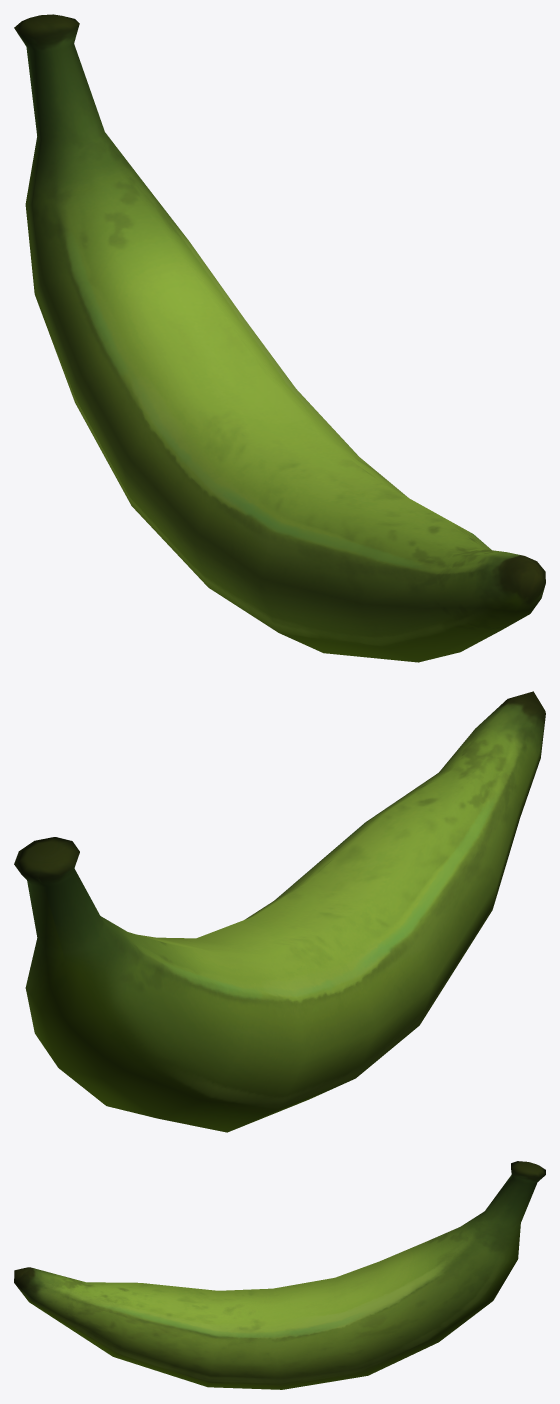
File: Plantain_Green.fbx
3 renders of one model, top to bottom at view 1: azimuth 30°, elevation 25°; view 2: azimuth 150°, elevation 25°; view 3: azimuth 270°, elevation 25°, orthographic. The views are drawn at different scales.
Visible parts, largest first — view 1: Plantain_Green; view 2: Plantain_Green; view 3: Plantain_Green.
Boxes of the visible parts, x1,y1,x2,y2 form: Plantain_Green: (14, 14, 545, 662); Plantain_Green: (14, 691, 545, 1132); Plantain_Green: (14, 1161, 545, 1389).
Size of the model in its own units: 24.16 by 52.95 by 117.
